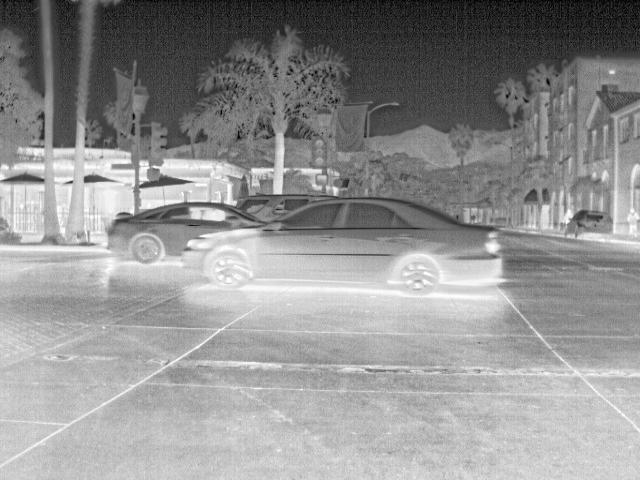car: (180, 194, 503, 297), (107, 200, 267, 264), (234, 193, 342, 224), (563, 208, 616, 242)
person: (626, 207, 640, 237), (562, 207, 575, 226)
